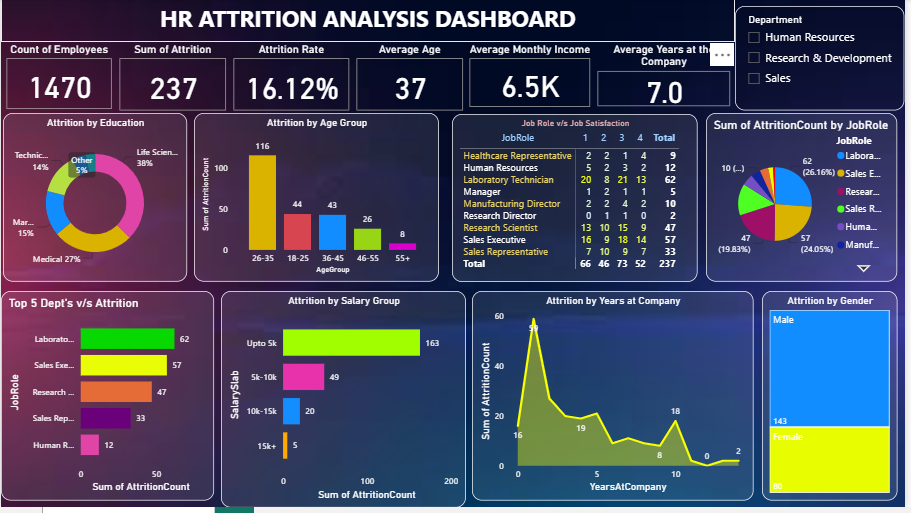

Layout of this report page (visuals, bound fields, positions):
{"tool":"powerbi","page":{"name":"HR Analytics Dashboard","canvas":[1280,720],"ordinal":0},"visuals":[{"type":"cardVisual","title":"Count of Employees","fields":{"Data":["CountNonNull(HR_Analytics.EmpID)"]},"box":[2.9,60.5,159.8,100.8],"z":0},{"type":"cardVisual","title":"Sum of Attrition","fields":{"Data":["Sum(HR_Analytics.AttritionCount)"]},"box":[162.7,60.5,161.3,102.2],"z":1000},{"type":"cardVisual","title":"Attrition Rate","fields":{"Data":["HR_Analytics.AttritionRate"]},"box":[324,60.5,174.2,102.2],"z":2000},{"type":"cardVisual","title":"Average Age","fields":{"Data":["Avg(HR_Analytics.Age)"]},"box":[498.2,60.5,161.3,102.2],"z":3000},{"type":"cardVisual","title":"Average Monthly Income","fields":{"Data":["Avg(HR_Analytics.MonthlyIncome)"]},"box":[659.5,60.5,181.4,97.9],"z":4000},{"type":"cardVisual","title":"Average Years at the Company","fields":{"Data":["Avg(HR_Analytics.YearsAtCompany)"]},"box":[841,60.5,198.7,96.5],"z":5000},{"type":"donutChart","title":"Attrition by Education","fields":{"Category":["HR_Analytics.EducationField"],"Y":["Sum(HR_Analytics.AttritionCount)"]},"box":[2.9,161.3,260.6,239],"z":6000},{"type":"clusteredColumnChart","title":"Attrition by Age Group","fields":{"Category":["HR_Analytics.AgeGroup"],"Y":["Sum(HR_Analytics.AttritionCount)"]},"box":[273.6,161.3,347,239],"z":7000},{"type":"pivotTable","title":"Job Role v/s Job Satisfaction","fields":{"Rows":["HR_Analytics.JobRole"],"Columns":["HR_Analytics.JobSatisfaction"],"Values":["Sum(HR_Analytics.AttritionCount)"]},"box":[639.4,162.7,348.5,237.6],"z":8000},{"type":"barChart","title":"Attrition by Salary Group","fields":{"Category":["HR_Analytics.SalarySlab"],"Y":["Sum(HR_Analytics.AttritionCount)"]},"box":[312.5,413.3,347,306.7],"z":9000},{"type":"pieChart","fields":{"Category":["HR_Analytics.JobRole"],"Y":["Sum(HR_Analytics.AttritionCount)"]},"box":[999.4,161.3,270.7,239],"z":10000},{"type":"barChart","title":"Top 5 Dept''s v/s Attrition","fields":{"Category":["HR_Analytics.JobRole"],"Y":["Sum(HR_Analytics.AttritionCount)"]},"box":[0,413.3,302.4,296.6],"z":11000},{"type":"areaChart","title":"Attrition by Years at Company","fields":{"Category":["HR_Analytics.YearsAtCompany"],"Y":["Sum(HR_Analytics.AttritionCount)"]},"box":[668.2,413.3,398.9,296.6],"z":12000},{"type":"treemap","title":"Attrition by Gender","fields":{"Group":["HR_Analytics.Gender"],"Values":["Sum(HR_Analytics.AttritionCount)"]},"box":[1078.6,413.3,191.5,296.6],"z":13000},{"type":"slicer","fields":{"Values":["HR_Analytics.Department"]},"box":[1039.7,10.1,240.5,148.3],"z":14000},{"type":"textbox","box":[0,0,1039.7,60.5],"z":15000}]}

Visuals, with their boxes in screenshot pixels (x1, y1, x2, y2), scaled from the page's 1280x720 canvas onto the 911x513 screenshot:
"Count of Employees" cardVisual: <box>2,43,116,115</box>
"Sum of Attrition" cardVisual: <box>116,43,231,116</box>
"Attrition Rate" cardVisual: <box>231,43,355,116</box>
"Average Age" cardVisual: <box>355,43,469,116</box>
"Average Monthly Income" cardVisual: <box>469,43,598,113</box>
"Average Years at the Company" cardVisual: <box>599,43,740,112</box>
"Attrition by Education" donutChart: <box>2,115,188,285</box>
"Attrition by Age Group" clusteredColumnChart: <box>195,115,442,285</box>
"Job Role v/s Job Satisfaction" pivotTable: <box>455,116,703,285</box>
"Attrition by Salary Group" barChart: <box>222,294,469,512</box>
pieChart - HR_Analytics.JobRole x Sum(HR_Analytics.AttritionCount): <box>711,115,904,285</box>
"Top 5 Dept''s v/s Attrition" barChart: <box>0,294,215,506</box>
"Attrition by Years at Company" areaChart: <box>476,294,759,506</box>
"Attrition by Gender" treemap: <box>768,294,904,506</box>
slicer - HR_Analytics.Department: <box>740,7,910,113</box>
textbox: <box>0,0,740,43</box>
